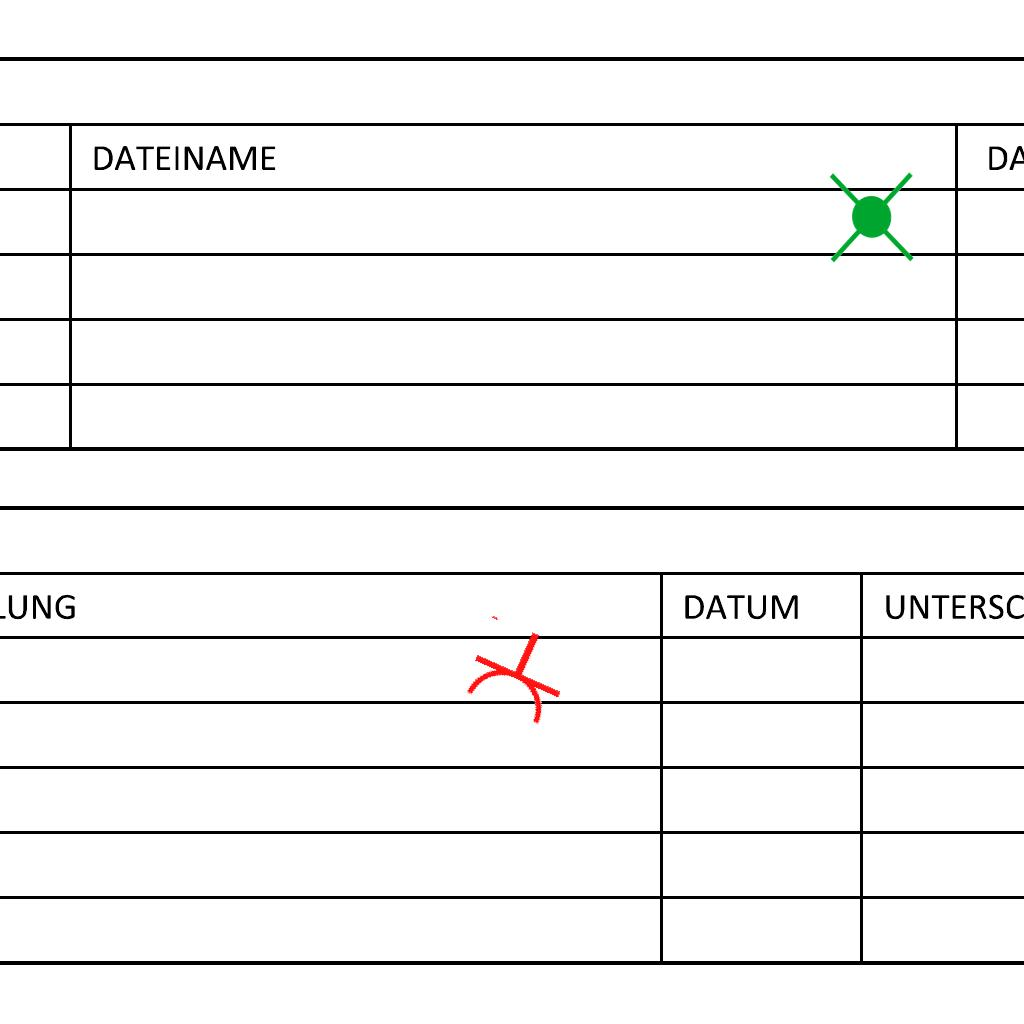Notlichtbaustein_in_Allgemeinbeleuchtug_engebaut_Einbau_(1UG_und_2UG_Aufbauvaria: (819, 167, 922, 267)
Schukosteckdose_einfach: (454, 610, 581, 732)
